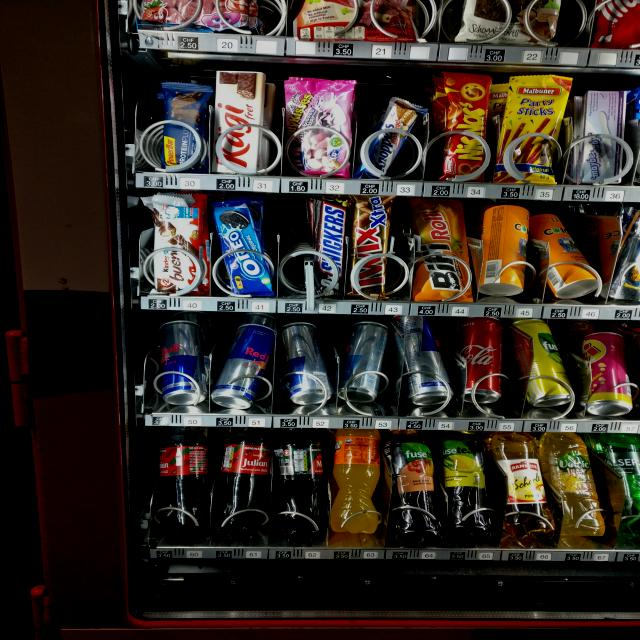bifi_roll__50__4251097402635: (407, 197, 474, 300)
bueno___43__4008400320328: (152, 191, 208, 295)
c-swiss_dosenabisicetea__33__9120025930135: (528, 211, 602, 298), (479, 202, 531, 293)
coke__dose_33__54491472: (458, 315, 508, 403)
coke__flasche_50__54491472: (156, 427, 218, 536), (272, 428, 331, 536), (216, 426, 274, 531)
fanta___50__40822938: (330, 427, 388, 536)
fini_jellykisses_packung_80_1_8410525116704: (286, 77, 355, 177)
fuse_lemon__50__5449000235947: (443, 430, 497, 538)
fuse_lemon_dose_33__5449000235947: (515, 316, 579, 406)
fuse_peach__50__5449000236623: (379, 428, 444, 542)
kagi___50__7610046000259: (216, 68, 261, 174)
knoppers_riegel____4035800488808: (360, 96, 422, 179)
lorenz_nicnacs__40__4018077798818: (438, 70, 491, 180)
malburner_partysticks__40__7610200279682: (501, 73, 565, 182)
oreo___66__84100733: (212, 200, 278, 296)
powerbar_proteinplusschoko__55__4029679520028: (160, 79, 210, 171)
ramseier_schorle__50__7610057012456: (490, 430, 559, 542)
redbull___33__90162909: (400, 313, 460, 406), (278, 320, 336, 404), (338, 318, 394, 402), (217, 323, 271, 409), (155, 320, 206, 405)
snickers___50__5000159461122: (313, 194, 347, 296)
tiki_himbeer_brause__50__00000000009342: (575, 330, 637, 415)
twix___50__5000159459228: (350, 192, 389, 298)
valser_classic__50__76404160: (590, 432, 640, 537)
volvic_pinapple__50__305764335648: (532, 429, 611, 537)
